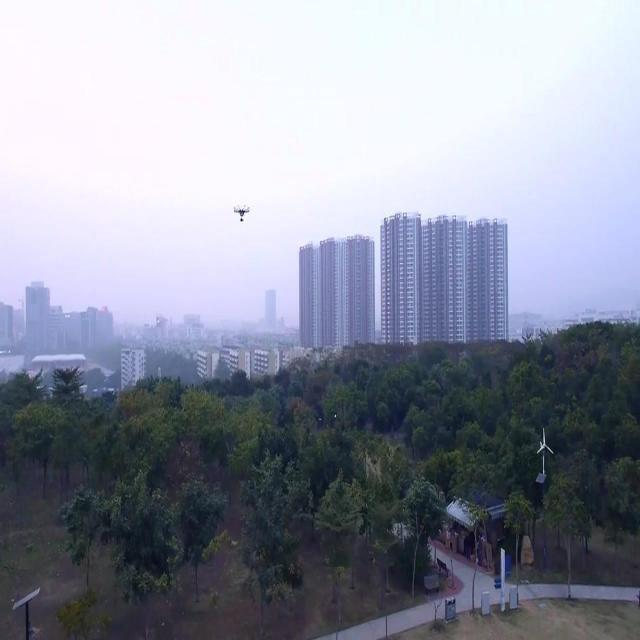UAV: (233, 204, 250, 222)
